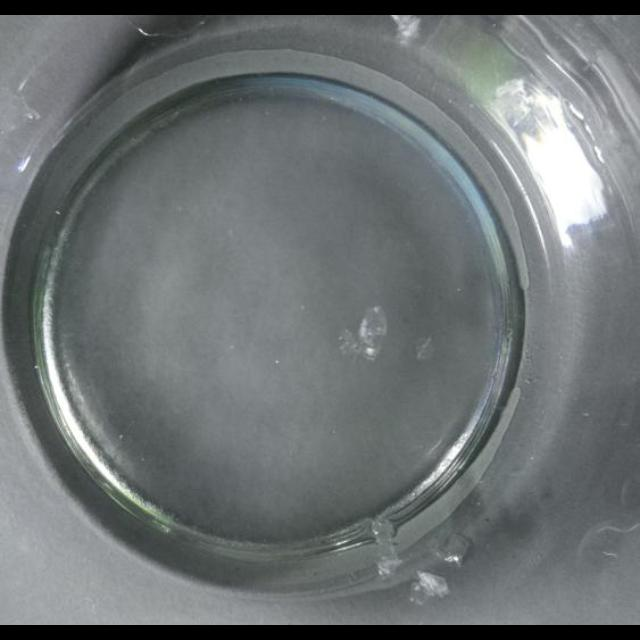Fibre: (338, 304, 389, 362), (411, 570, 452, 604)
